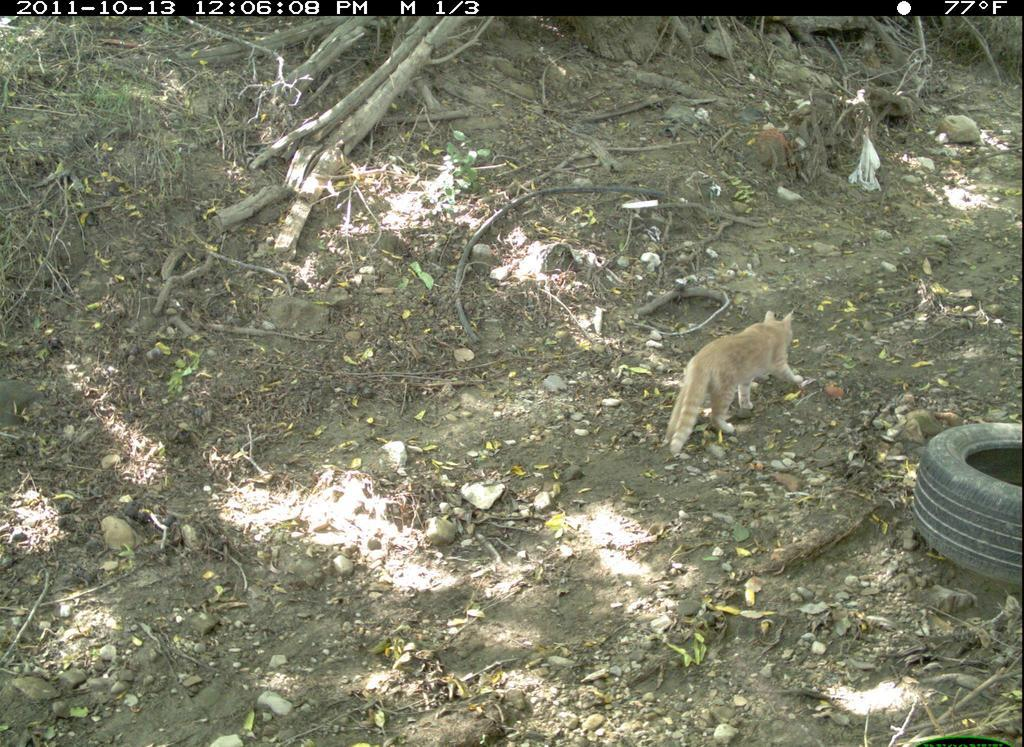cat: (664, 305, 815, 459)
